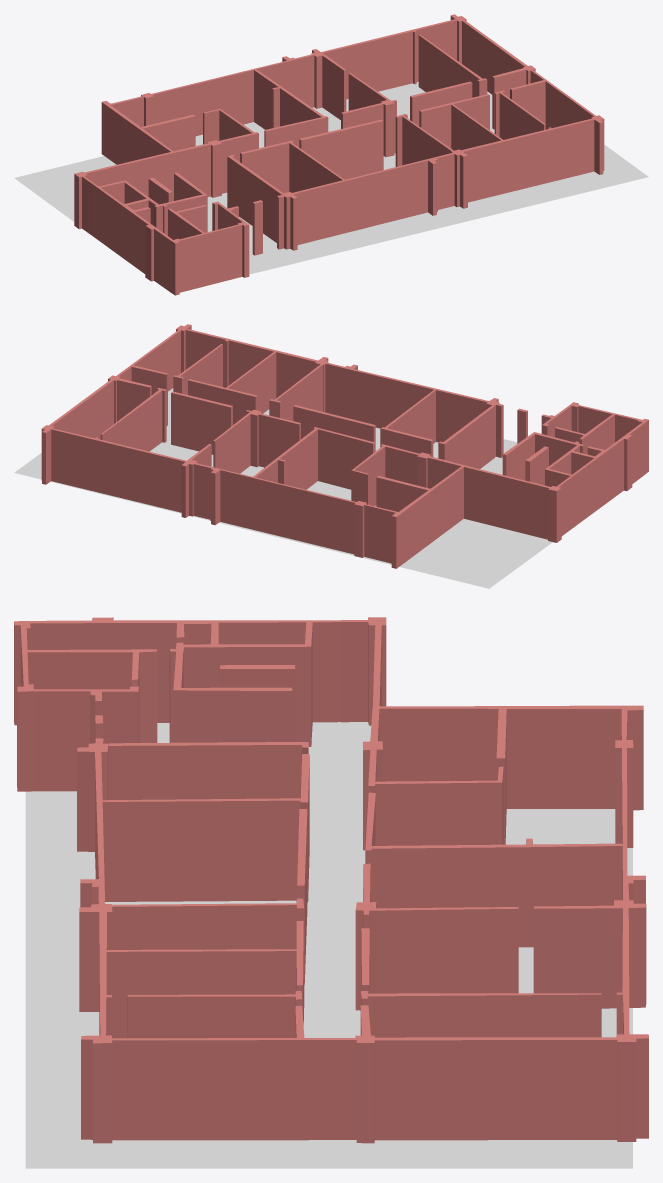
The model's file is Old - Second.fbx.
The picture shows the model from 3 angles, top to bottom: view 1: azimuth 30°, elevation 25°; view 2: azimuth 150°, elevation 25°; view 3: azimuth 270°, elevation 25°; orthographic projection. The views are drawn at different scales.
Parts seen in each view (by area): view 1: Building 1-2 WallMap, Plane; view 2: Building 1-2 WallMap, Plane; view 3: Building 1-2 WallMap, Plane.
Part boxes in pixels (x1=…): Building 1-2 WallMap: x1=74, y1=14, x2=604, y2=295; Plane: x1=14, y1=82, x2=648, y2=293; Building 1-2 WallMap: x1=41, y1=324, x2=648, y2=568; Plane: x1=14, y1=388, x2=552, y2=588; Building 1-2 WallMap: x1=14, y1=617, x2=648, y2=1143; Plane: x1=25, y1=722, x2=632, y2=1168.
Bounding box in the file's own units: 4838 × 500 × 2876.
